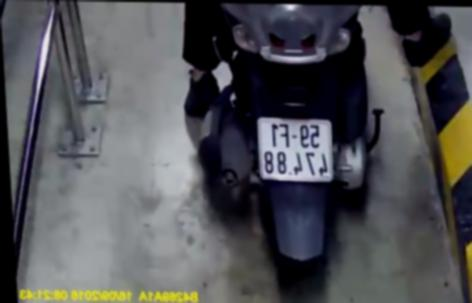License_Plate: (247, 117, 339, 187)
